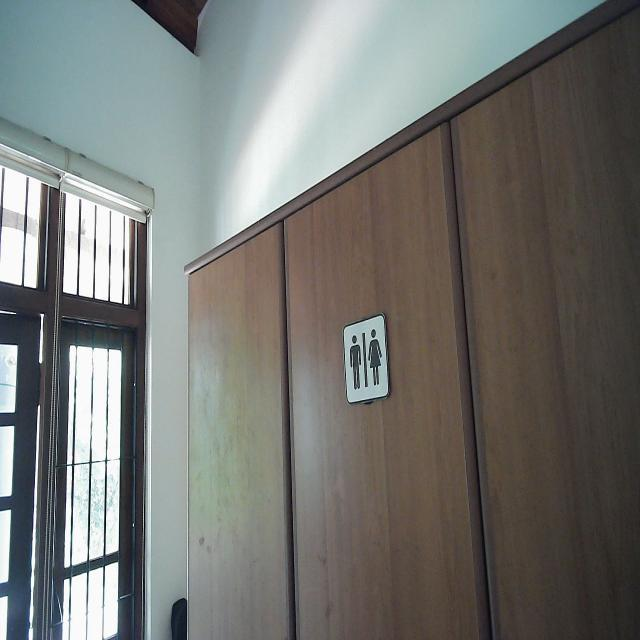restroom: (341, 309, 392, 408)
